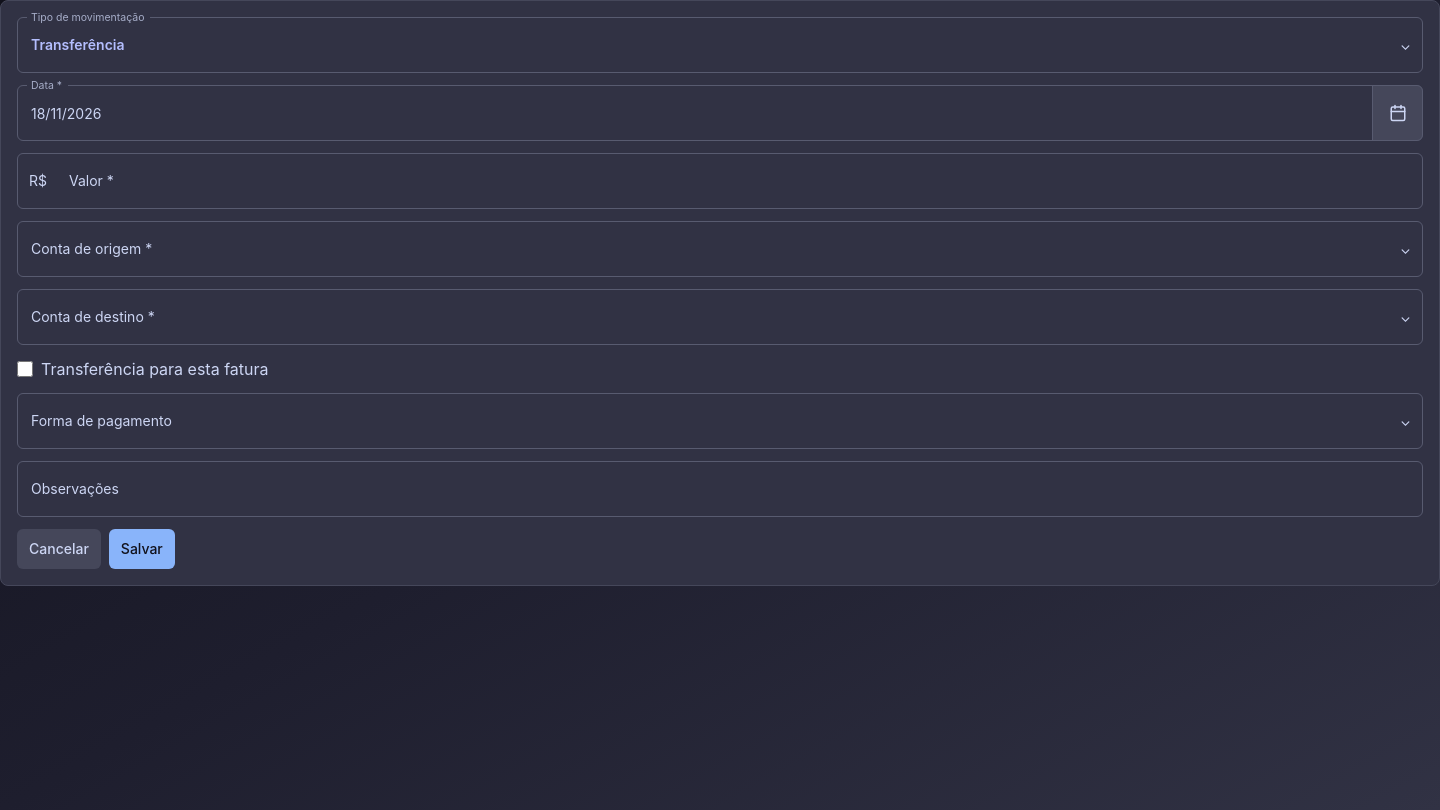
Test: shows only the required movement fields in pt
The width and height of the screenshot is (1440, 810).
Expected: the dropdown labelled "Conta de origem" is shown, [17,221,1423,277]
Expected: the dropdown labelled "Conta de destino" is shown, [17,289,1423,345]
Select "Pagamento de fatura" in the dropdown labelled "Tipo de movimentação" at (720, 45), box [17,17,1423,73]
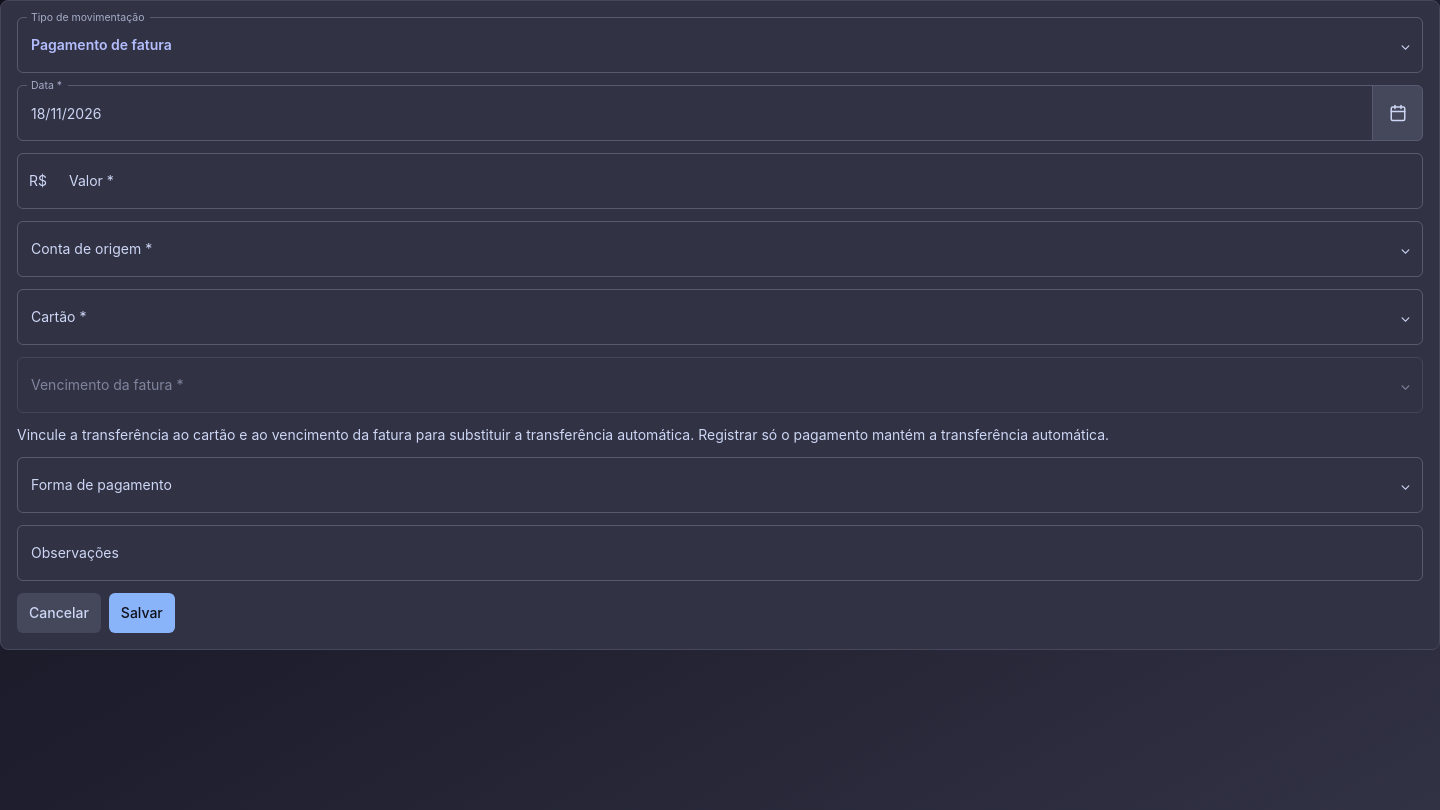
Expected: the dropdown labelled "Cartão" is shown, [17,289,1423,345]
Expected: the label labelled "Conta de destino" is gone
Select "Aplicação" in the dropdown labelled "Tipo de movimentação" at (720, 45), box [17,17,1423,73]
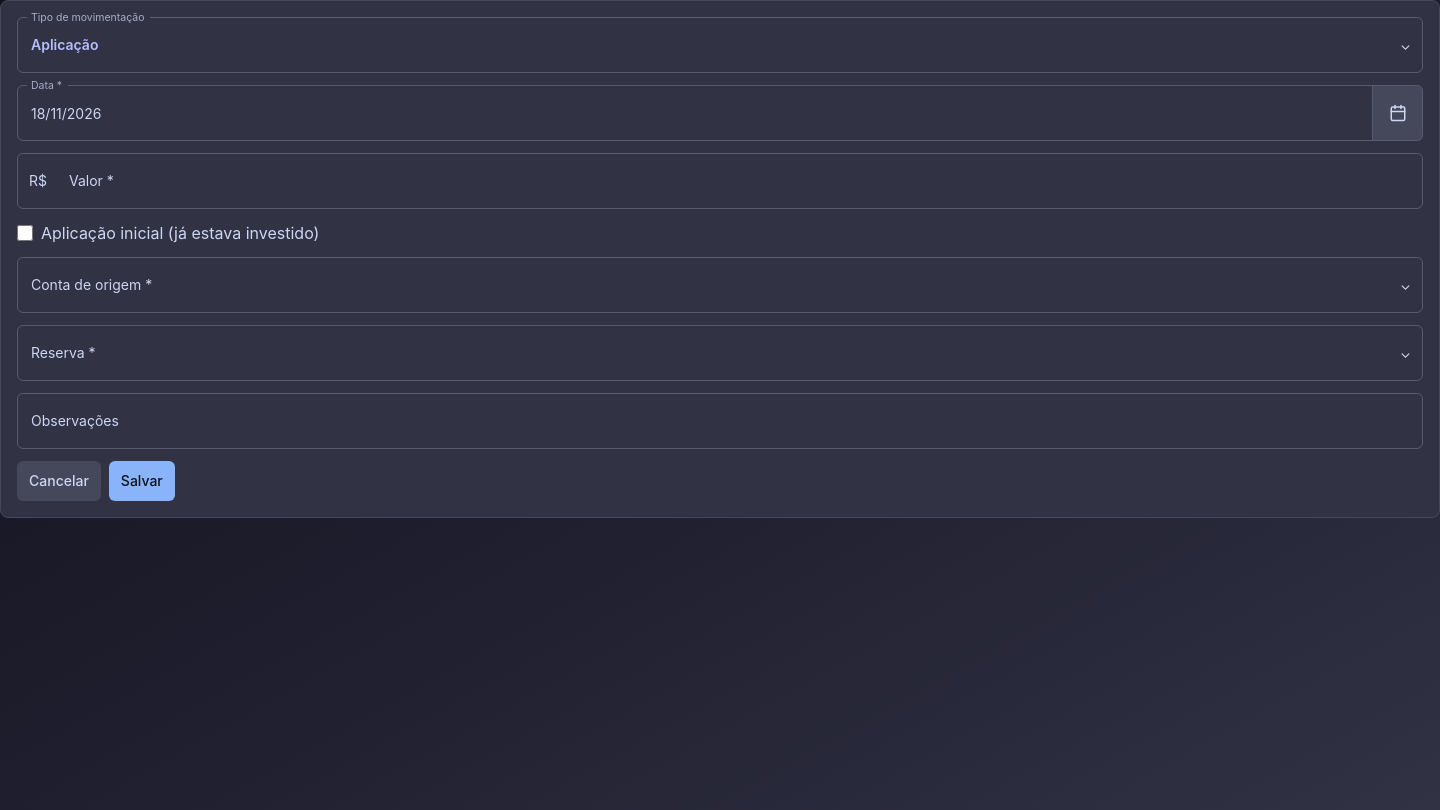
Expected: the dropdown labelled "Conta de origem" is shown, [17,257,1423,313]
Expected: the dropdown labelled "Reserva" is shown, [17,325,1423,381]
Expected: the label labelled "Vencimento da fatura" is gone
Click the checkbox labelled "Aplicação inicial (já estava investido)".
click(25, 233)  # box [17,225,33,241]
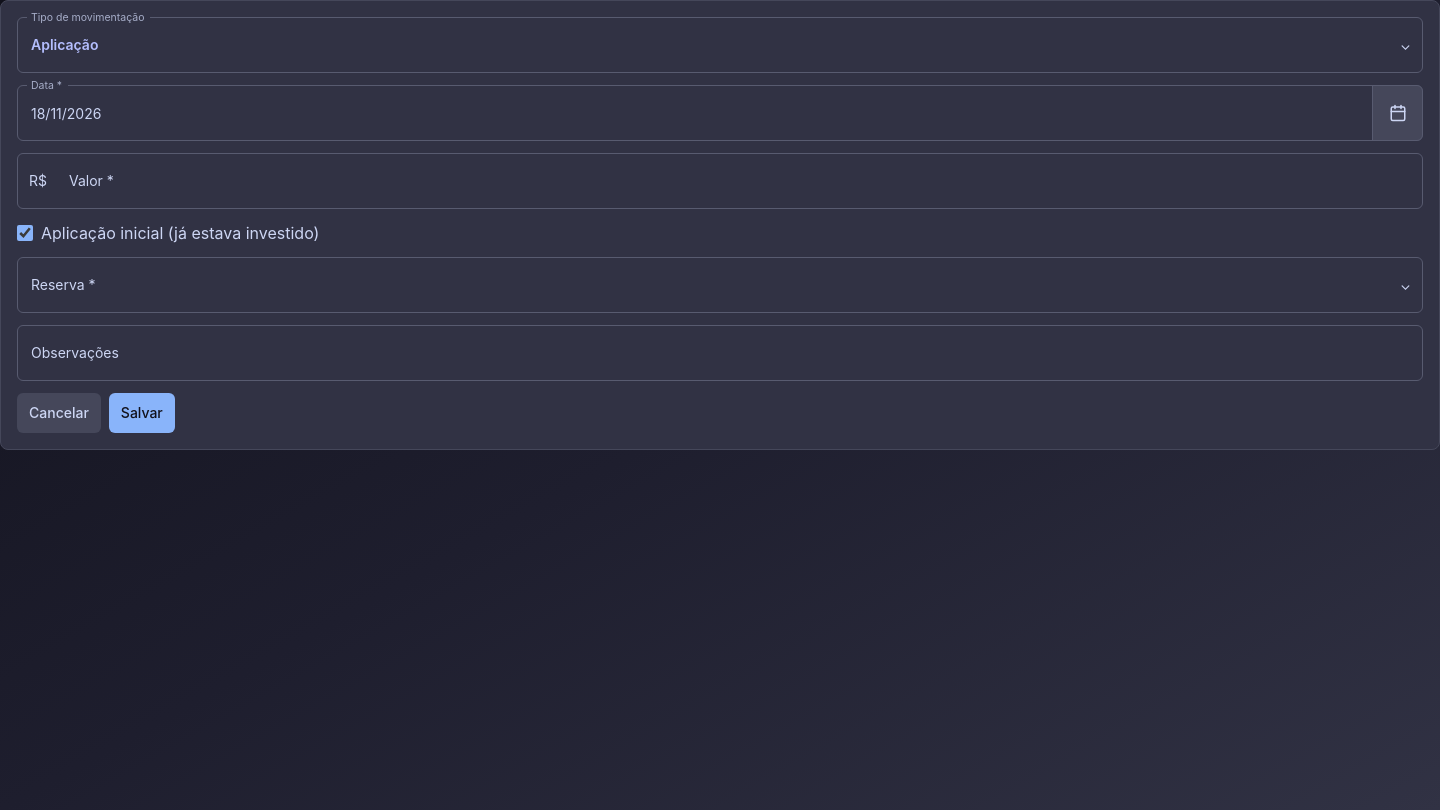
Expected: the label labelled "Conta de origem" is gone
Select "Resgate" in the dropdown labelled "Tipo de movimentação" at (720, 45), box [17,17,1423,73]
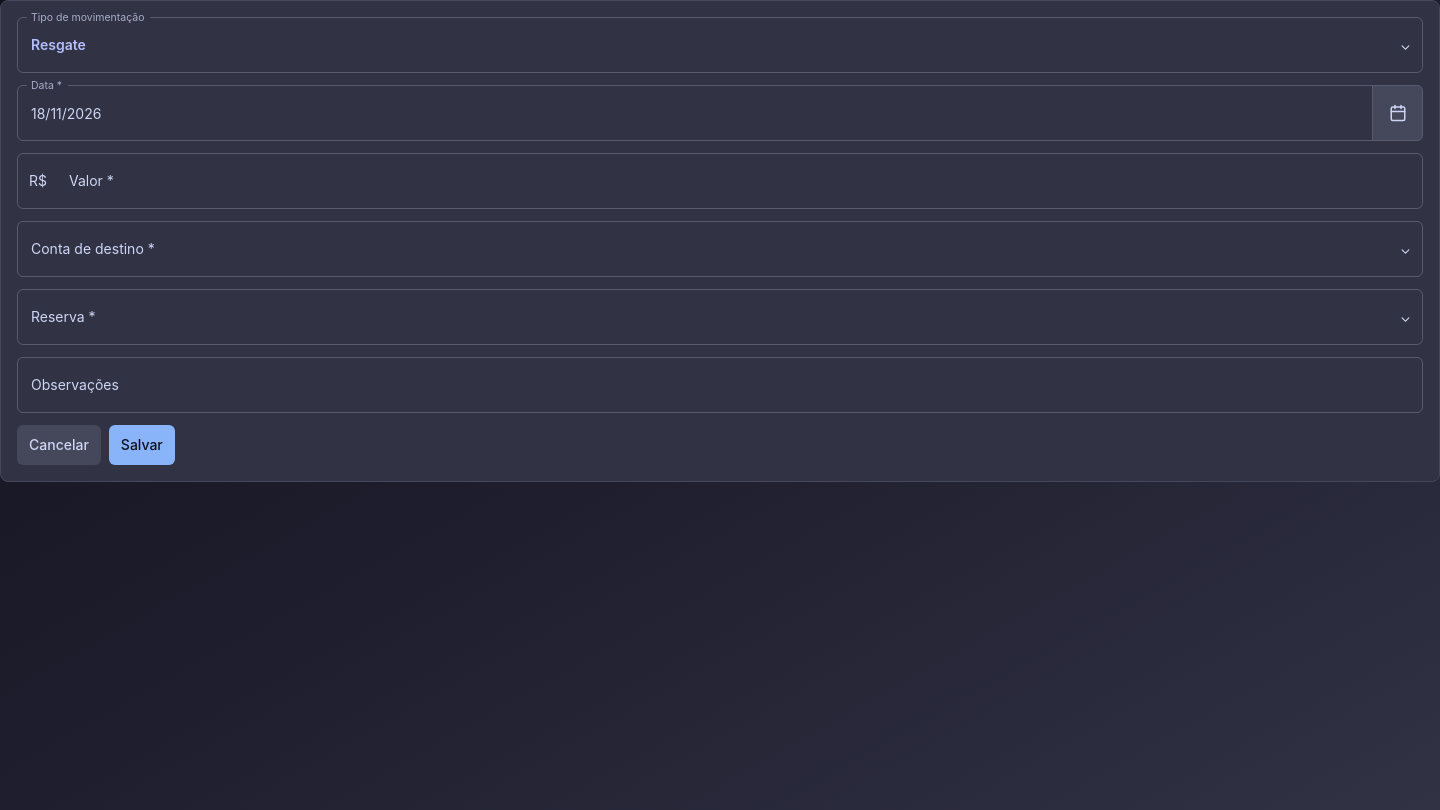
Expected: the label labelled "Conta de origem" is not shown
Expected: the dropdown labelled "Conta de destino" is shown, [17,221,1423,277]
Expected: the label labelled "Aplicação inicial (já estava investido)" is gone
